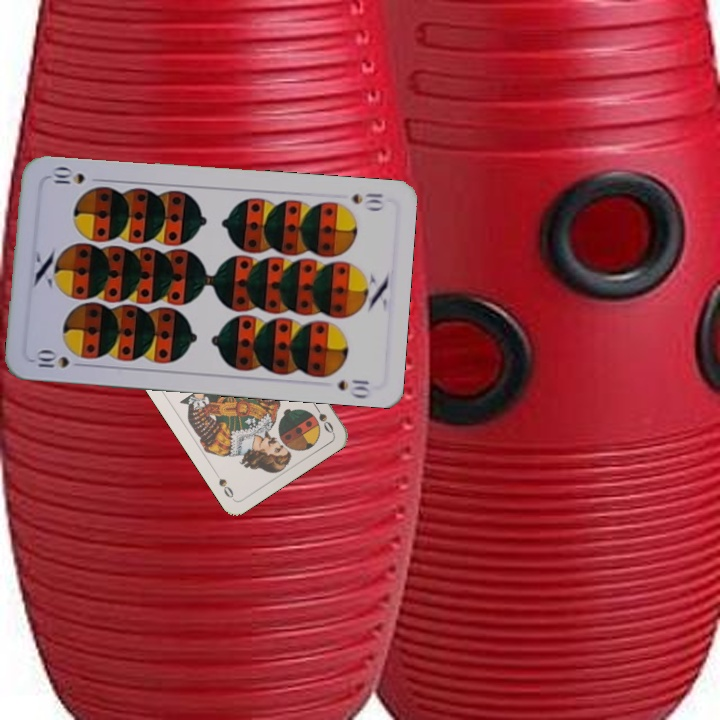S10: (31, 347, 88, 372), (347, 189, 386, 213)
SO: (309, 399, 336, 436)
